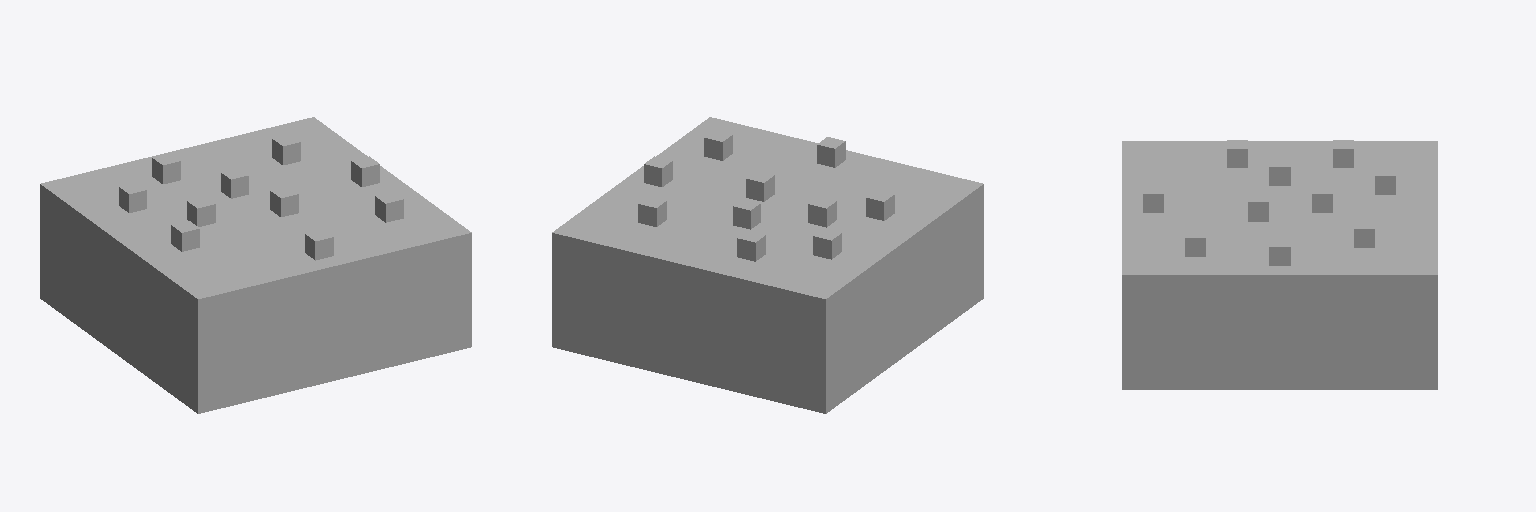
3 views of the same model, side by side, from view 1: azimuth 30°, elevation 25°; view 2: azimuth 150°, elevation 25°; view 3: azimuth 270°, elevation 25° (orthographic).
Visible parts, largest first — view 1: ObjObject.025; view 2: ObjObject.025; view 3: ObjObject.025.
Boxes of the visible parts, x1,y1,x2,y2 form: ObjObject.025: [40, 117, 471, 413]; ObjObject.025: [552, 117, 983, 413]; ObjObject.025: [1122, 140, 1437, 389].
Size of the model in its own units: 1.5 by 0.7 by 1.5.
1 materials, 1 textured.